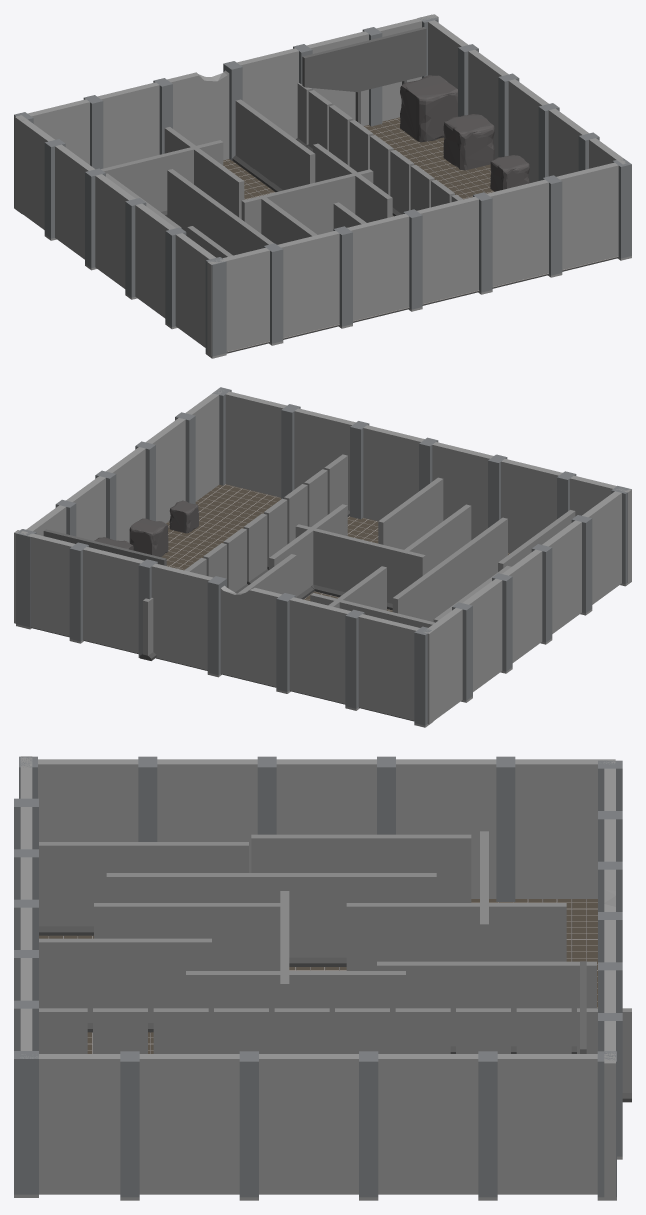
File: LEVIL01.fbx
3 renders of one model, top to bottom at view 1: azimuth 30°, elevation 25°; view 2: azimuth 150°, elevation 25°; view 3: azimuth 270°, elevation 25°, orthographic. The views are drawn at different scales.
Parts seen in each view (by area): view 1: Cube, Cube.002, Cube.001, Cube.003, Cube.009, Cube.013, Cube.004, Cube.022, Cube.018, Cube.023, Cube.021, Cube.008 (+7 smaller); view 2: Cube.001, Cube, Cube.002, Cube.003, Cube.009, Cube.004, Cube.023, Cube.018, Cube.015, Cube.014, Cube.017, Cube.016 (+6 smaller); view 3: Cube.003, Cube.002, Cube.009, Cube.018, Cube.016, Cube.015, Cube, Cube.020, Cube.022, Cube.019, Cube.001, Cube.014 (+5 smaller).
Part boxes in pixels (x1=…): Cube: x1=207, y1=158, x2=631, y2=356; Cube.002: x1=14, y1=115, x2=226, y2=358; Cube.001: x1=14, y1=14, x2=438, y2=214; Cube.003: x1=418, y1=14, x2=626, y2=182; Cube.009: x1=296, y1=83, x2=462, y2=216; Cube.013: x1=302, y1=27, x2=426, y2=123; Cube.004: x1=223, y1=117, x2=618, y2=353; Cube.022: x1=232, y1=99, x2=315, y2=192; Cube.018: x1=167, y1=169, x2=273, y2=255; Cube.023: x1=241, y1=169, x2=373, y2=234; Cube.021: x1=101, y1=140, x2=223, y2=216; Cube.008: x1=400, y1=75, x2=457, y2=142; Cube.001: x1=14, y1=530, x2=433, y2=727; Cube: x1=212, y1=387, x2=631, y2=582; Cube.002: x1=424, y1=485, x2=631, y2=724; Cube.003: x1=16, y1=389, x2=223, y2=629; Cube.009: x1=139, y1=454, x2=349, y2=660; Cube.004: x1=30, y1=484, x2=509, y2=721; Cube.023: x1=295, y1=524, x2=425, y2=610; Cube.018: x1=392, y1=517, x2=507, y2=621; Cube.015: x1=378, y1=477, x2=443, y2=549; Cube.014: x1=269, y1=504, x2=347, y2=599; Cube.017: x1=402, y1=504, x2=471, y2=573; Cube.016: x1=328, y1=566, x2=386, y2=610; Cube.003: x1=20, y1=1051, x2=616, y2=1200; Cube.002: x1=19, y1=756, x2=615, y2=901; Cube.009: x1=39, y1=1008, x2=631, y2=1102; Cube.018: x1=106, y1=873, x2=436, y2=966; Cube.016: x1=346, y1=903, x2=566, y2=970; Cube.015: x1=39, y1=938, x2=211, y2=1032; Cube: x1=14, y1=756, x2=38, y2=1197; Cube.020: x1=39, y1=842, x2=248, y2=935; Cube.022: x1=377, y1=961, x2=596, y2=1053; Cube.019: x1=251, y1=834, x2=471, y2=902; Cube.001: x1=598, y1=760, x2=622, y2=1198; Cube.014: x1=186, y1=971, x2=405, y2=1053.
Size of the model in its own units: 20999 by 4431 by 17874.
Materials: 1 (1 with a texture image).
